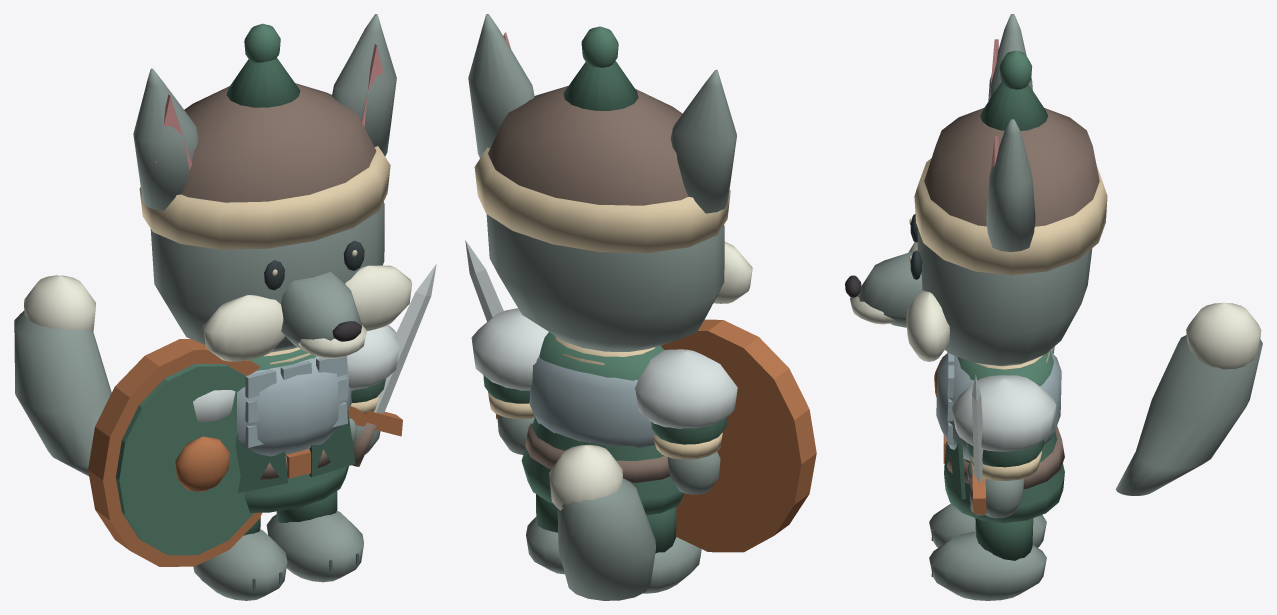
The model's file is guard.glb.
3 views of the same model, side by side, from view 1: azimuth 30°, elevation 25°; view 2: azimuth 150°, elevation 25°; view 3: azimuth 270°, elevation 25° (orthographic). The views are drawn at different scales.
Parts seen in each view (by area): view 1: Regional helmet, Regional shield face, Animal cheek head, Fur hat brim, Plush sweeping tail, Shield gold rim, Rounded breastplate, Tall animal ear, Soft animal paw.001, Tall animal ear.001, Soft animal paw, Light cheek fluff (+17 smaller); view 2: Animal cheek head, Shield gold rim, Regional helmet, Fur hat brim, Plush sweeping tail, Rounded breastplate, Big shoulder armour, Tall animal ear, Short folded tunic, Tall animal ear.001, Big shoulder armour.001, Tail pale tip (+16 smaller); view 3: Animal cheek head, Regional helmet, Plush sweeping tail, Fur hat brim, Big shoulder armour.001, Soft animal paw.001, Tall animal ear.001, Tail pale tip, Short folded tunic, Long pointed muzzle, Rounded breastplate, Light cheek fluff.001 (+12 smaller).
Part boxes in pixels (x1,y1,x2,y2): Regional helmet: [181, 83, 376, 202]; Regional shield face: [116, 364, 253, 555]; Animal cheek head: [150, 201, 384, 352]; Fur hat brim: [139, 146, 390, 249]; Plush sweeping tail: [14, 310, 111, 476]; Shield gold rim: [88, 339, 261, 566]; Rounded breastplate: [237, 356, 351, 456]; Tall animal ear: [133, 68, 198, 210]; Soft animal paw.001: [266, 510, 363, 582]; Tall animal ear.001: [332, 14, 396, 156]; Soft animal paw: [193, 529, 287, 600]; Light cheek fluff: [203, 295, 285, 361]; Animal cheek head: [486, 214, 724, 351]; Shield gold rim: [661, 319, 816, 552]; Regional helmet: [488, 86, 688, 205]; Fur hat brim: [474, 147, 730, 253]; Plush sweeping tail: [557, 478, 655, 600]; Rounded breastplate: [529, 356, 656, 448]; Big shoulder armour: [635, 349, 737, 428]; Tall animal ear: [670, 69, 736, 213]; Short folded tunic: [521, 332, 683, 515]; Tall animal ear.001: [468, 14, 534, 157]; Big shoulder armour.001: [471, 308, 548, 390]; Tail pale tip: [549, 444, 622, 510]; Animal cheek head: [917, 229, 1092, 366]; Regional helmet: [924, 108, 1099, 226]; Plush sweeping tail: [1115, 335, 1262, 495]; Fur hat brim: [914, 158, 1107, 275]; Big shoulder armour.001: [951, 375, 1056, 451]; Soft animal paw.001: [929, 531, 1046, 600]; Tall animal ear.001: [986, 119, 1035, 251]; Tail pale tip: [1186, 302, 1261, 369]; Short folded tunic: [944, 350, 1064, 522]; Long pointed muzzle: [857, 250, 922, 327]; Rounded breastplate: [936, 352, 1061, 461]; Light cheek fluff.001: [906, 290, 949, 361].
Bounding box in the file's own units: 1.15 × 1.78 × 1.28.
